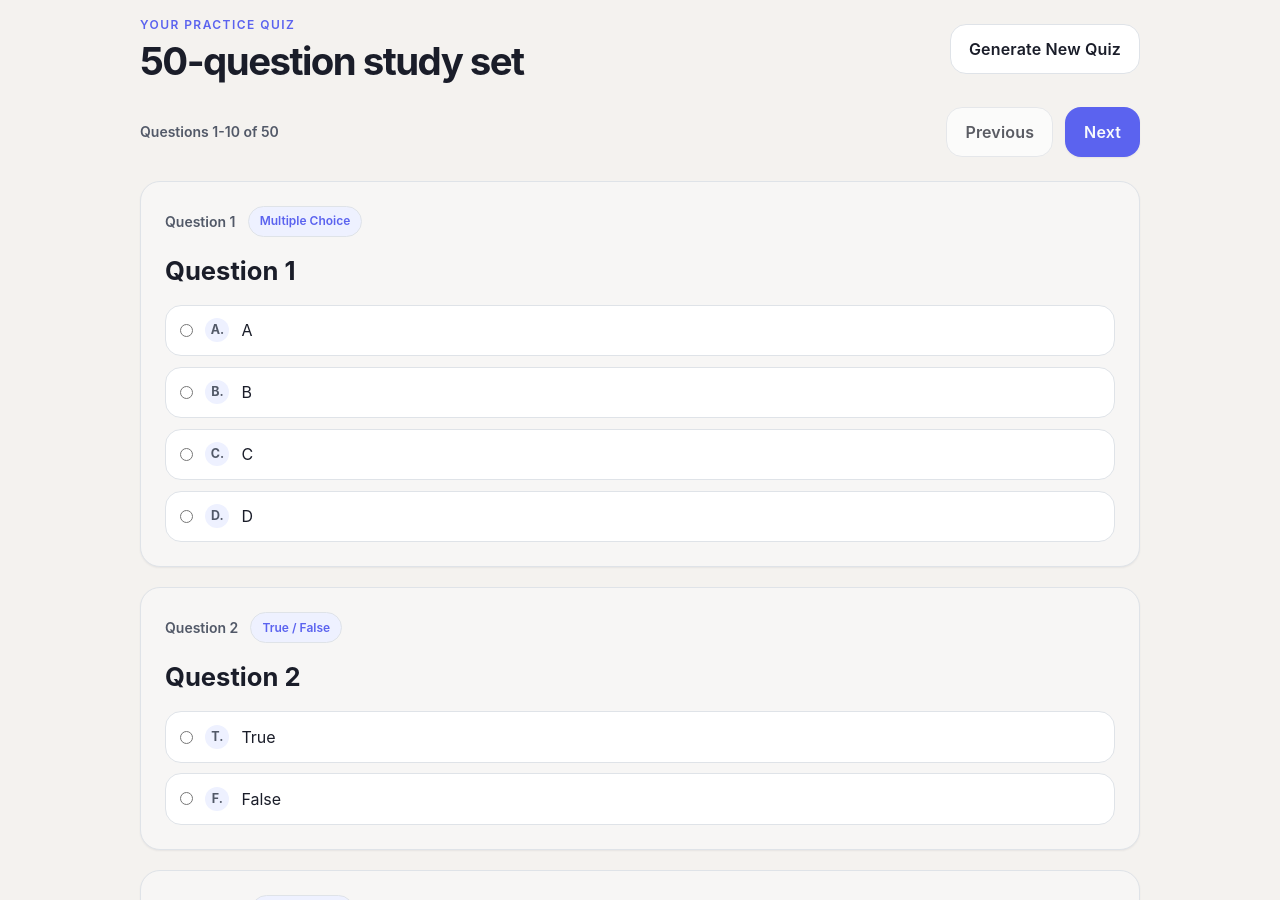
Scenario: Quiz UI › renders 50 quiz questions across navigable sections
Expected: the text "Questions 1-10 of 50" is shown, [140, 121, 279, 142]
Click the button "Next". click: (1103, 132)
box: [1065, 107, 1140, 157]
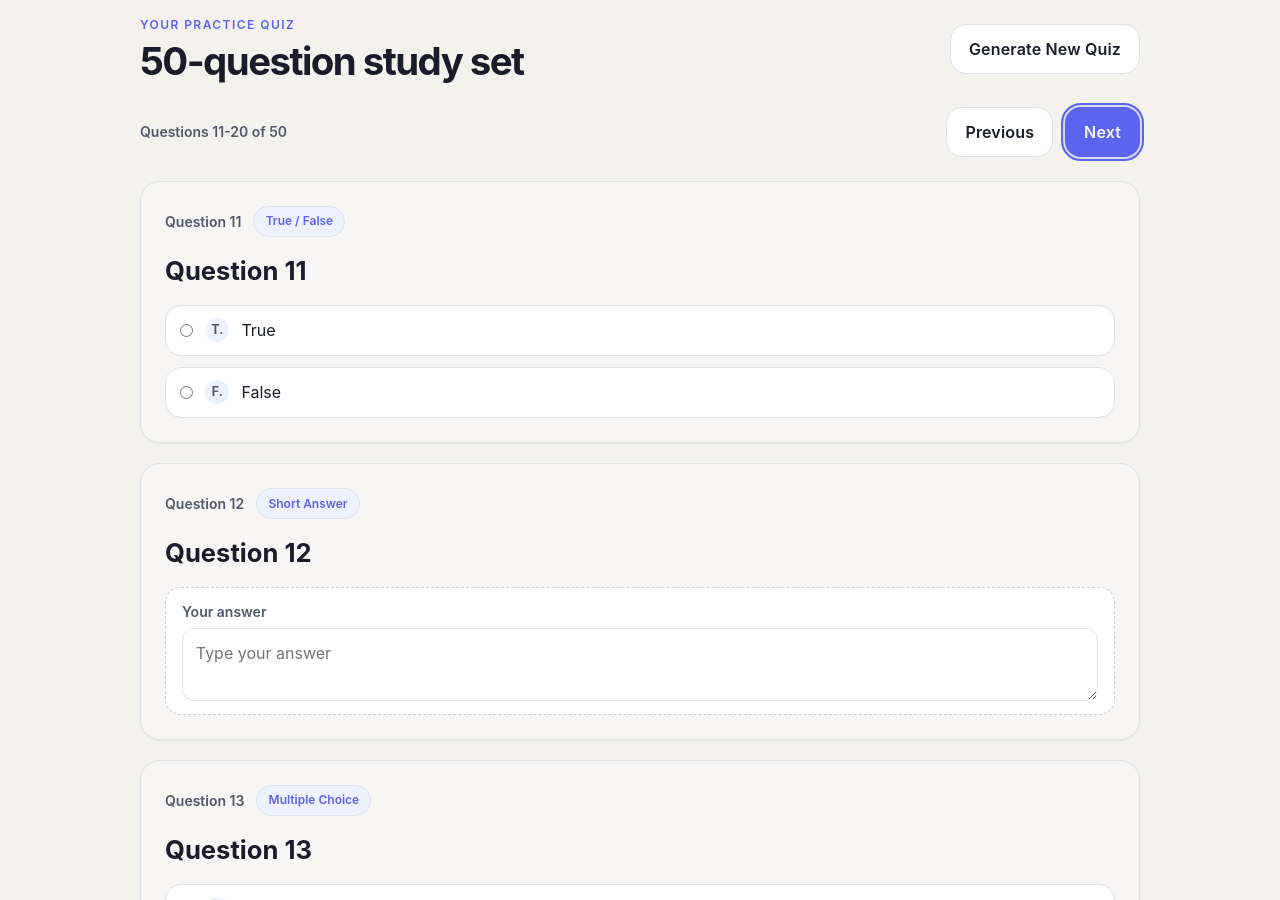
Expected: the text "Questions 11-20 of 50" is shown, [140, 121, 287, 142]
